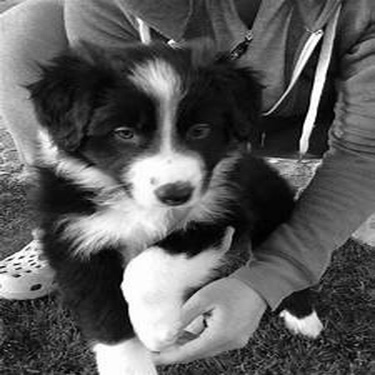dog: (20, 27, 333, 371)
